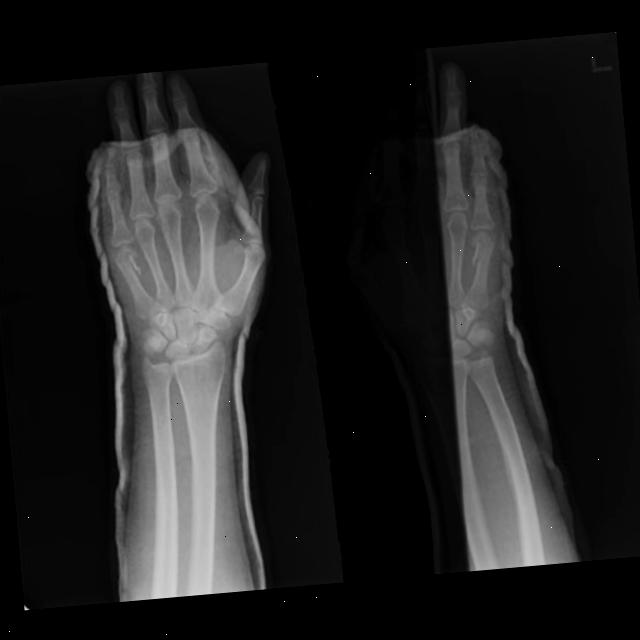Fracture: (104, 241, 145, 277), (467, 229, 497, 271)
